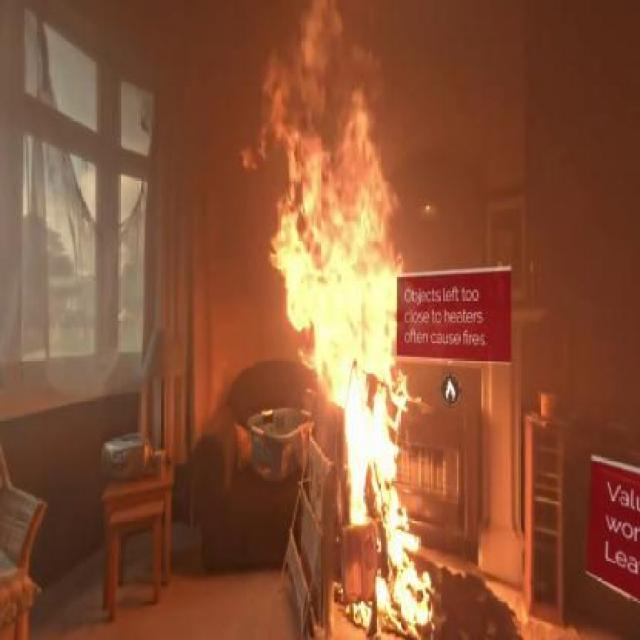fire: (298, 174, 402, 510)
smoke: (376, 0, 562, 194), (158, 0, 270, 272)
